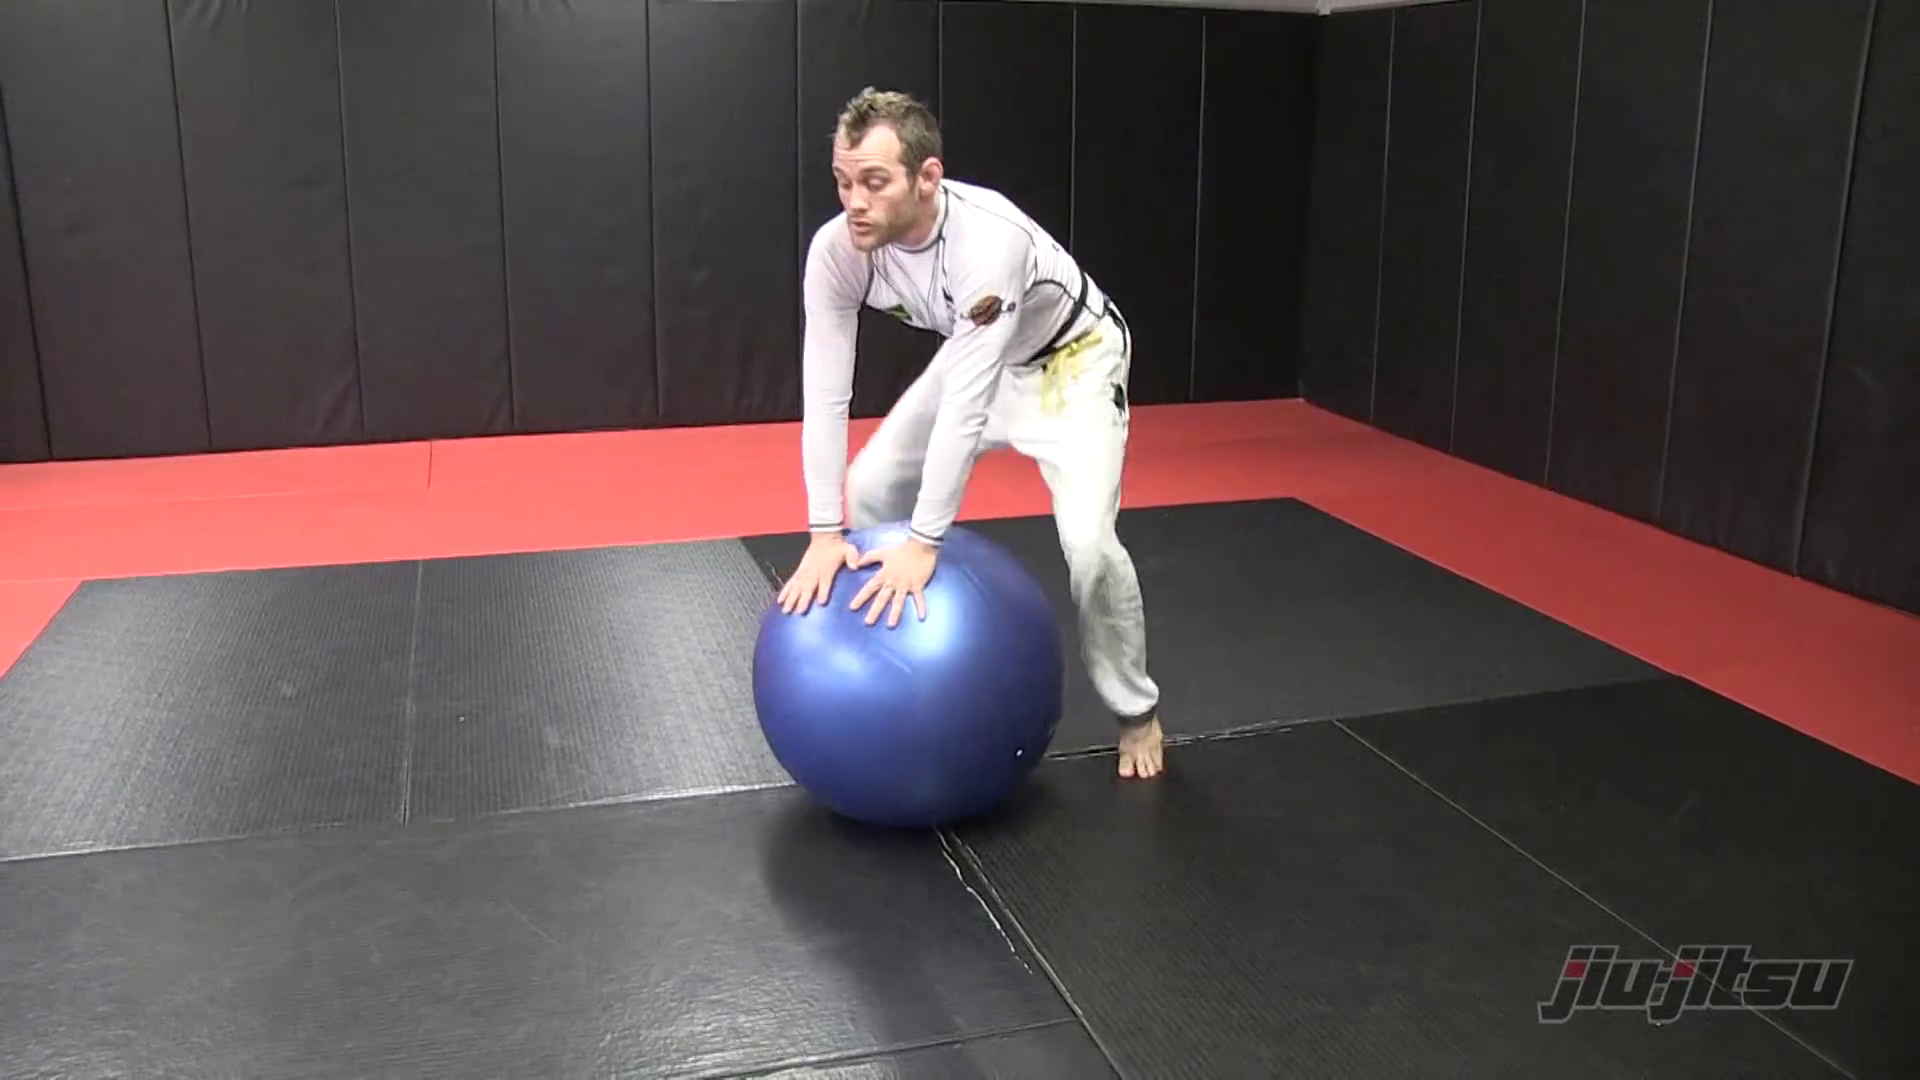yogaball: (746, 535, 1077, 849)
